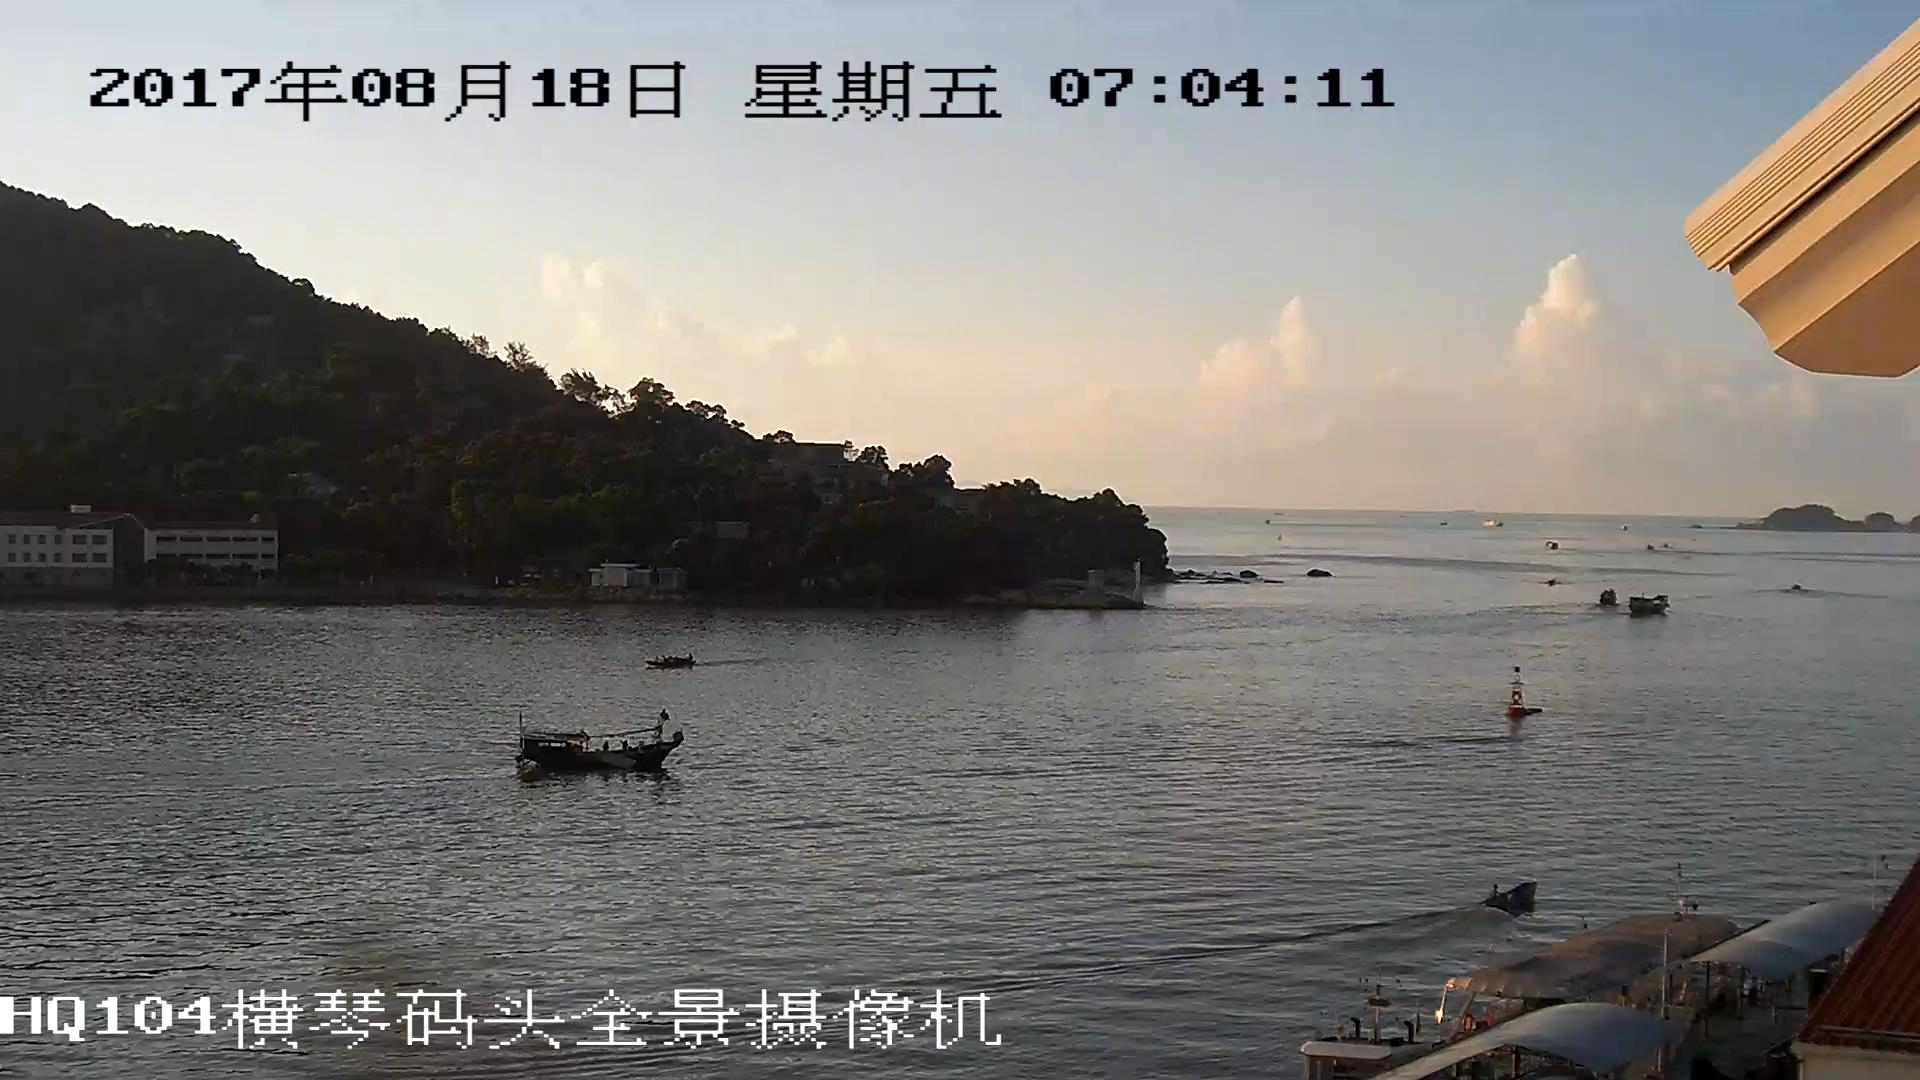fishing boat: (513, 719, 682, 777), (645, 649, 698, 674)
